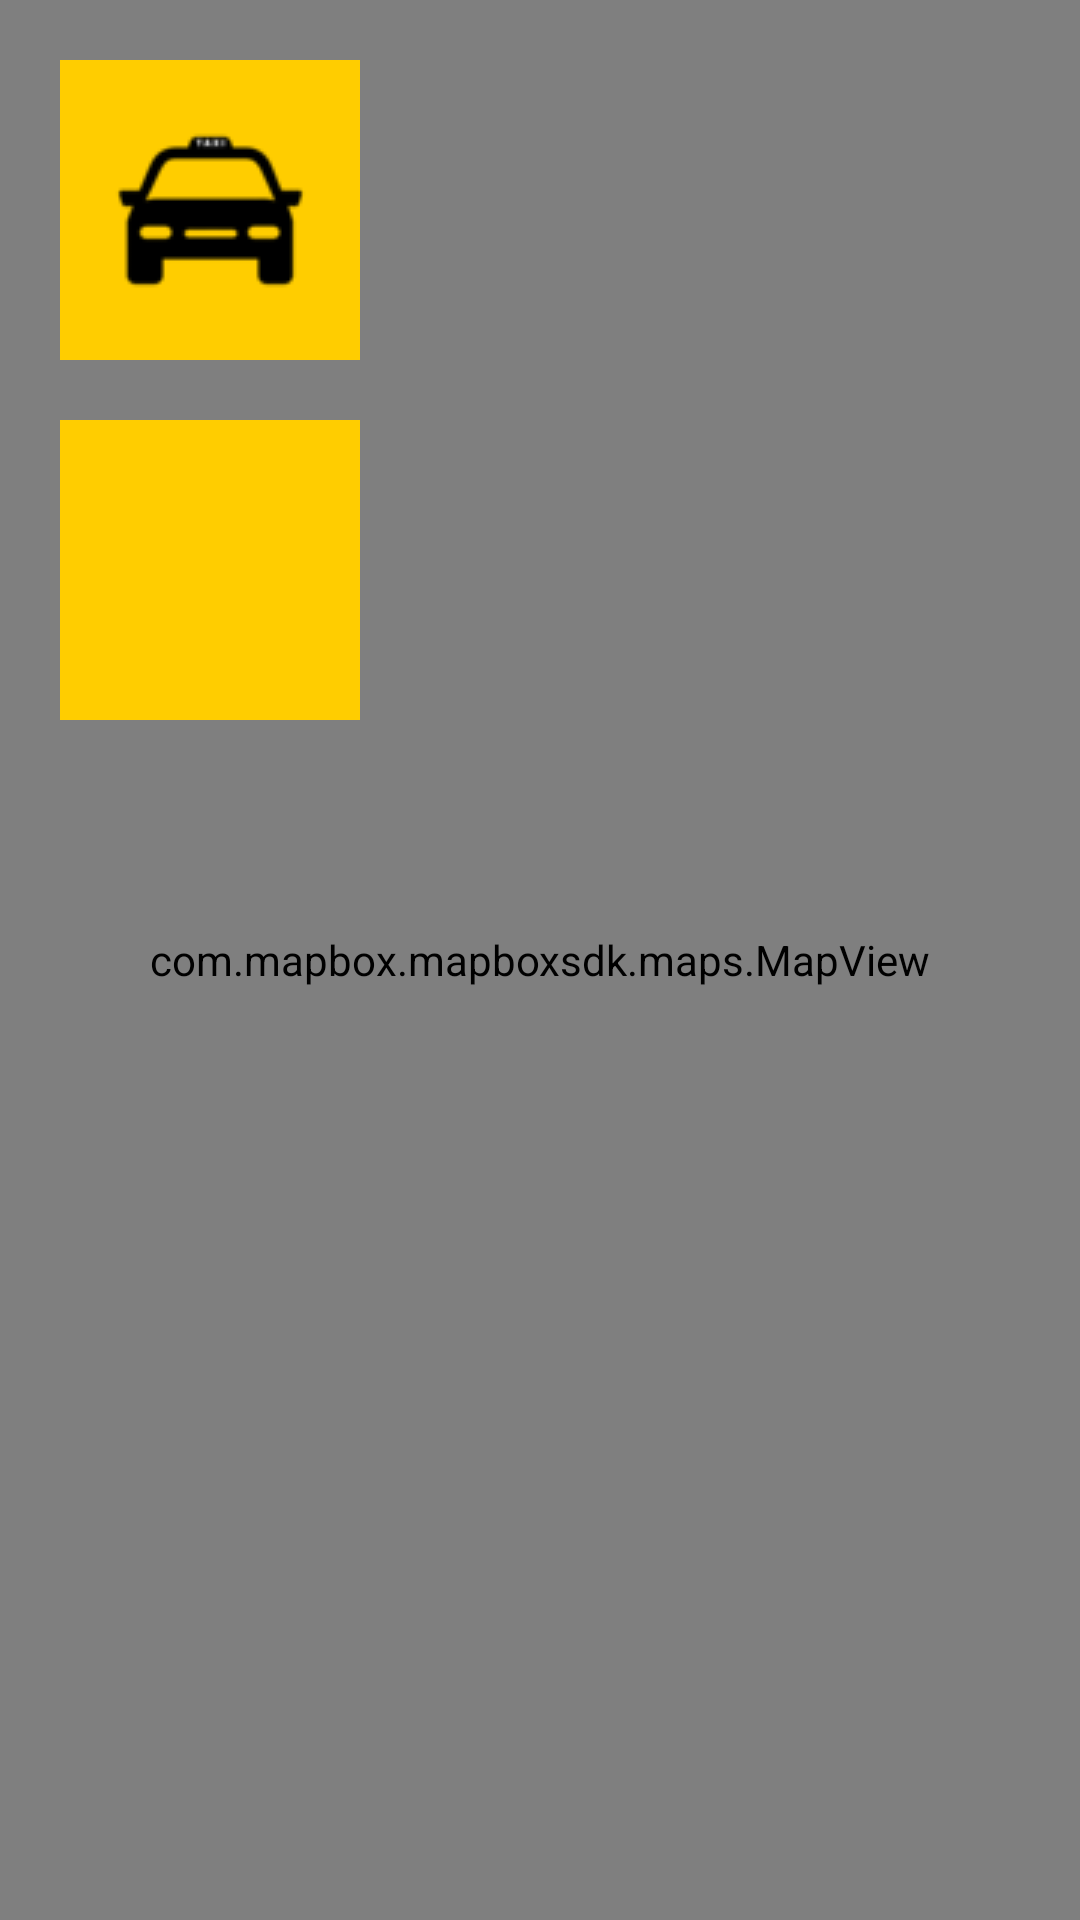

Icons on this 1080w x 1920h Android screen, each with its box as detection(x1, y1, x2, y2):
taxiavi: detection(60, 60, 360, 360)
